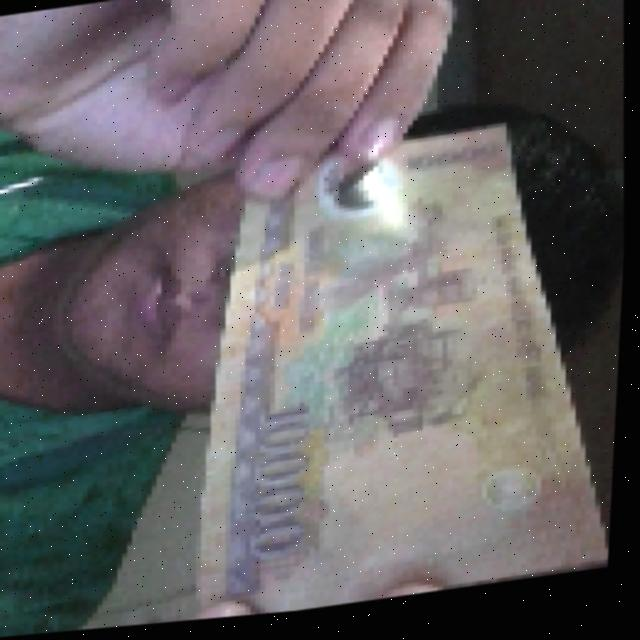10 000 VND: (183, 109, 634, 625)
